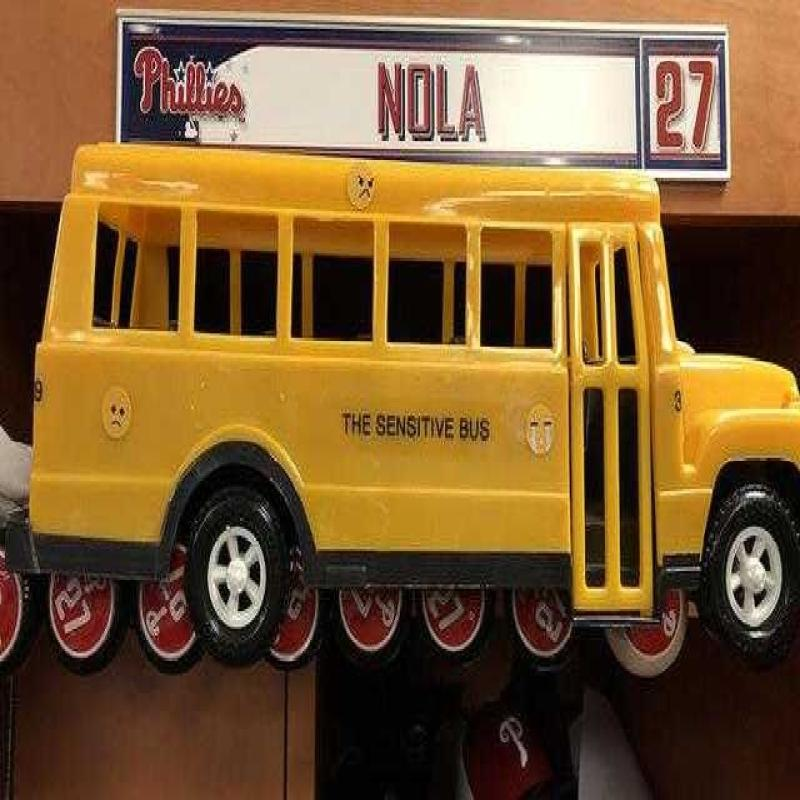bus: (52, 104, 746, 654)
